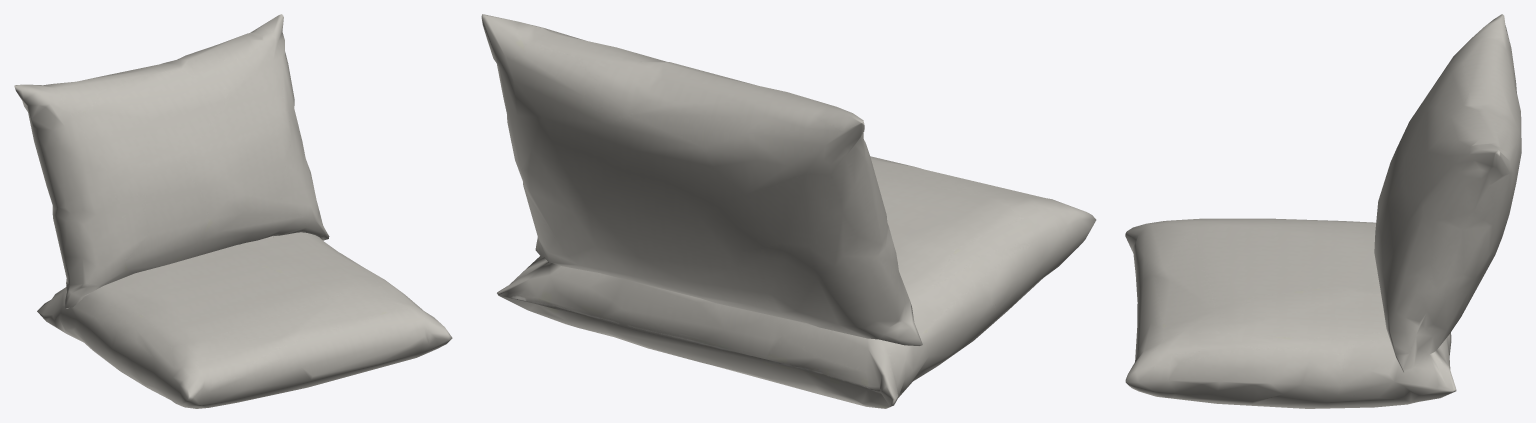
Rendered from havsten-outdoor-back-seat-cushion-beige-90542499.glb.
3 views of the same model, side by side, from view 1: azimuth 30°, elevation 25°; view 2: azimuth 150°, elevation 25°; view 3: azimuth 270°, elevation 25° (orthographic). The views are drawn at different scales.
Parts seen in each view (by area): view 1: ASY_ART_90542499_S01_NV01; view 2: ASY_ART_90542499_S01_NV01; view 3: ASY_ART_90542499_S01_NV01.
Part boxes in pixels (<box>): ASY_ART_90542499_S01_NV01: <box>14,14,452,408</box>; ASY_ART_90542499_S01_NV01: <box>481,14,1096,408</box>; ASY_ART_90542499_S01_NV01: <box>1125,14,1521,408</box>.
Bounding box in the file's own units: 0.8863 × 0.7597 × 0.9855.
1 material, 1 textured.
